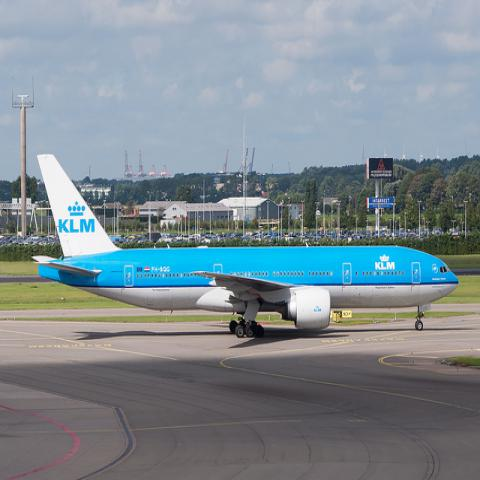car: (147, 232, 161, 243), (254, 234, 266, 242), (230, 232, 243, 239), (312, 235, 320, 246), (452, 232, 462, 237), (266, 235, 271, 243), (206, 232, 214, 236), (24, 242, 29, 248), (251, 232, 258, 236)
